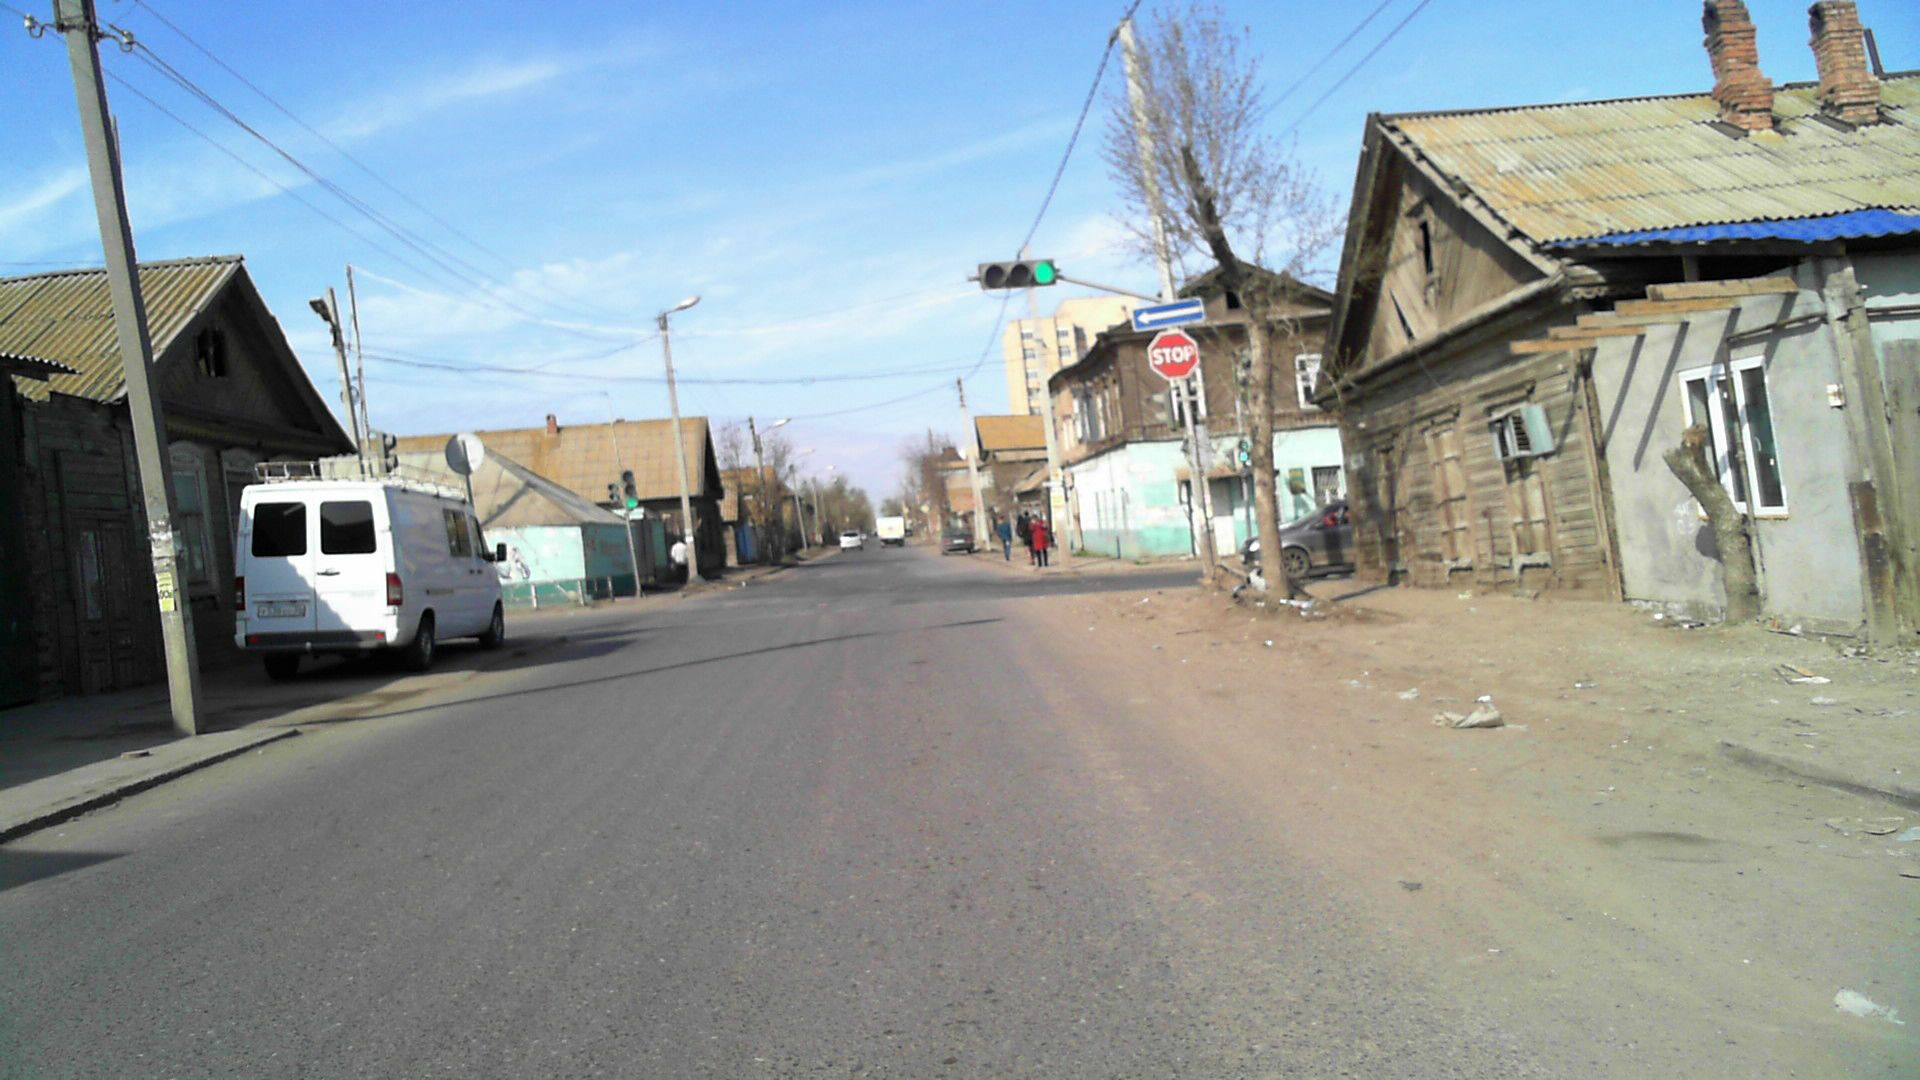One-Way Traffic: (1133, 298, 1207, 330)
